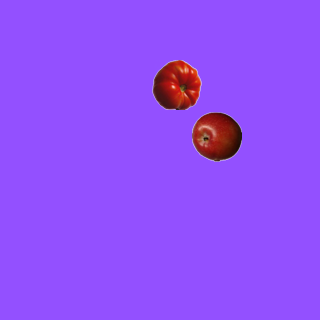Apple Braeburn: (191, 111, 241, 161)
Tomato 3: (151, 59, 201, 109)
